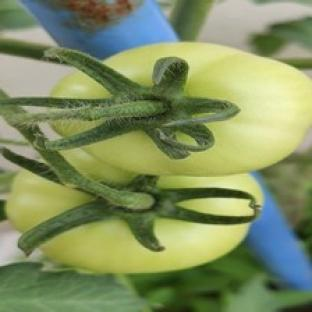Tomato: (84, 42, 311, 175), (42, 218, 249, 272)
